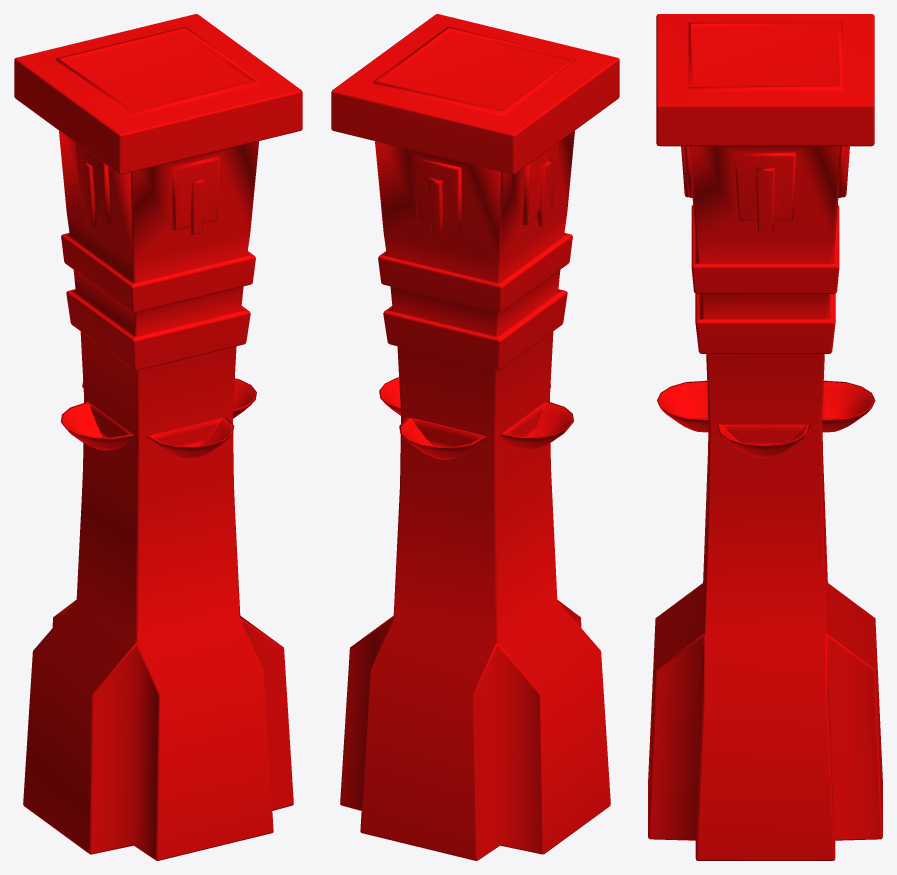
The model's file is Column02.fbx.
3 views of the same model, side by side, from view 1: azimuth 30°, elevation 25°; view 2: azimuth 150°, elevation 25°; view 3: azimuth 270°, elevation 25° (orthographic). The views are drawn at different scales.
Parts seen in each view (by area): view 1: Column02; view 2: Column02; view 3: Column02.
Part boxes in pixels (x1,y1,x2,y2): Column02: (14, 14, 302, 860); Column02: (331, 14, 619, 860); Column02: (648, 14, 882, 860).
Bounding box in the file's own units: 6.55 × 22.57 × 6.34.
